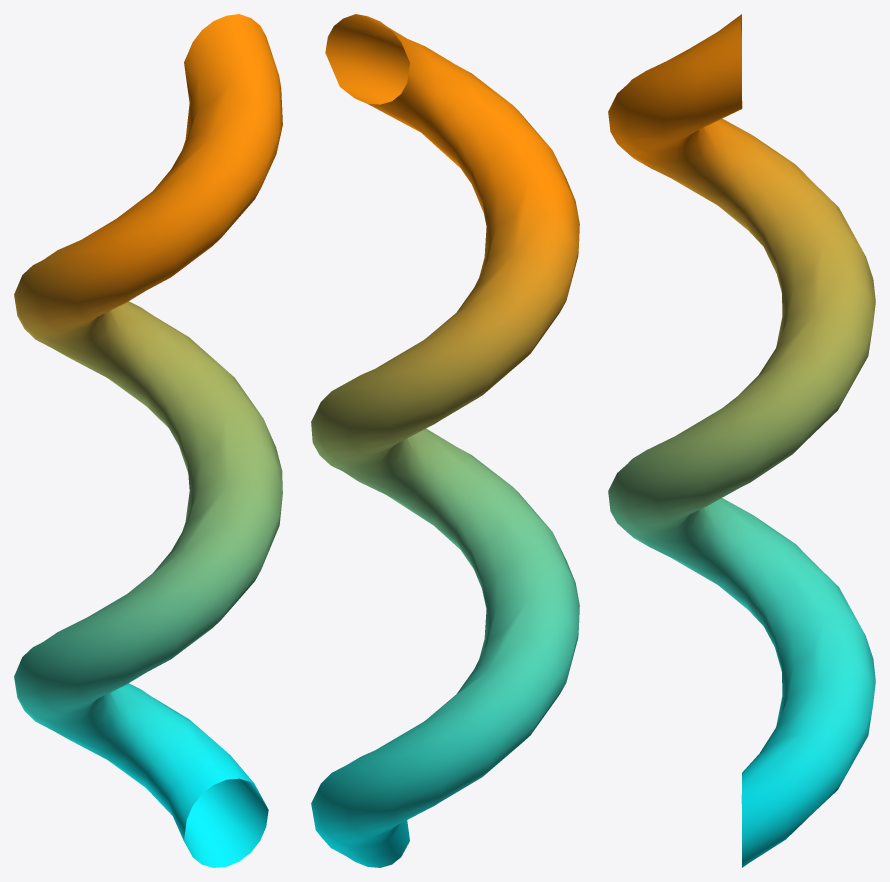
Rendered from helix500.fbx.
3 views of the same model, side by side, from view 1: azimuth 30°, elevation 25°; view 2: azimuth 150°, elevation 25°; view 3: azimuth 270°, elevation 25° (orthographic).
Parts seen in each view (by area): view 1: Cylinder; view 2: Cylinder; view 3: Cylinder.
Part boxes in pixels (x1=…): Cylinder: x1=14, y1=14, x2=282, y2=867; Cylinder: x1=311, y1=14, x2=579, y2=867; Cylinder: x1=608, y1=14, x2=875, y2=867.
Bounding box in the file's own units: 357 × 1226 × 352.
1 material, 1 textured.
